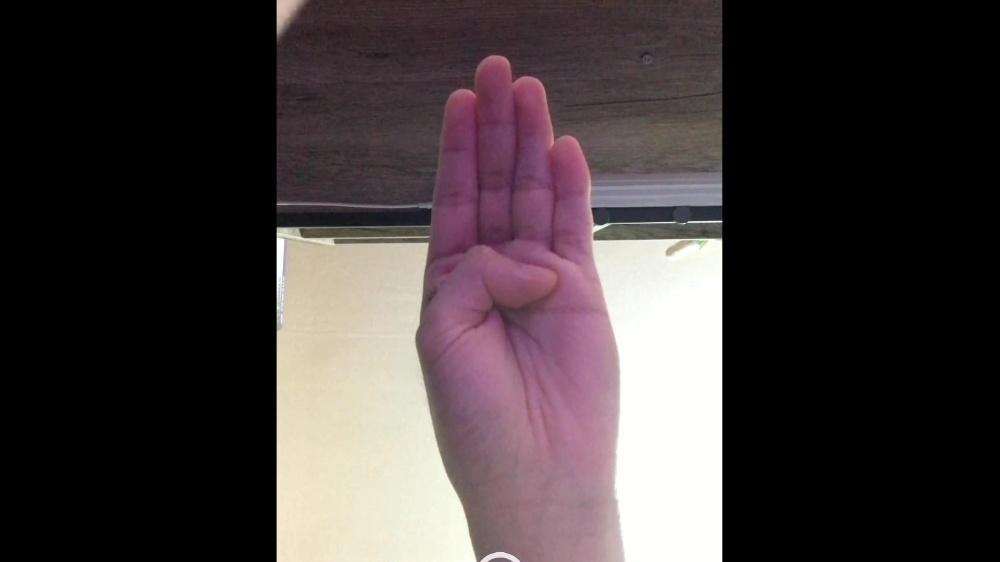b: (409, 53, 620, 473)
